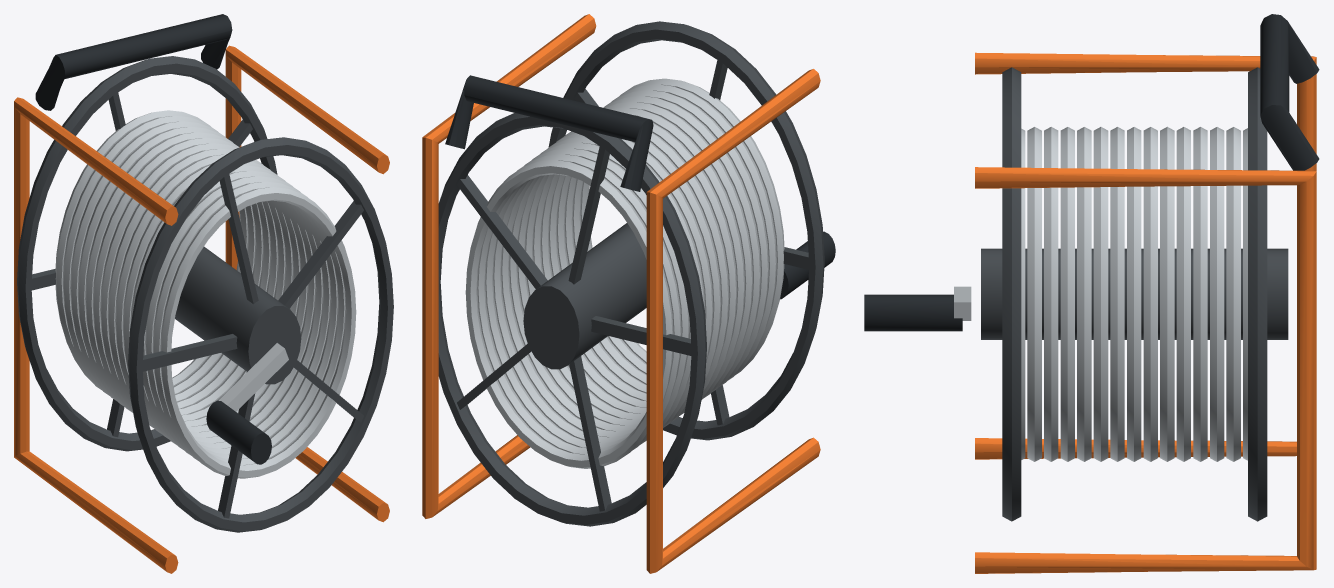
The model's file is ob_wire_rope_reel.glb.
3 views of the same model, side by side, from view 1: azimuth 30°, elevation 25°; view 2: azimuth 150°, elevation 25°; view 3: azimuth 270°, elevation 25° (orthographic). The views are drawn at different scales.
Parts seen in each view (by area): view 1: ob_wire_rope_reel; view 2: ob_wire_rope_reel; view 3: ob_wire_rope_reel.
Part boxes in pixels (box(x1,y1,x2,y2)): ob_wire_rope_reel: box(14, 14, 393, 573); ob_wire_rope_reel: box(422, 14, 835, 573); ob_wire_rope_reel: box(864, 14, 1319, 573).
Size of the model in its own units: 0.34 by 0.51 by 0.46.
